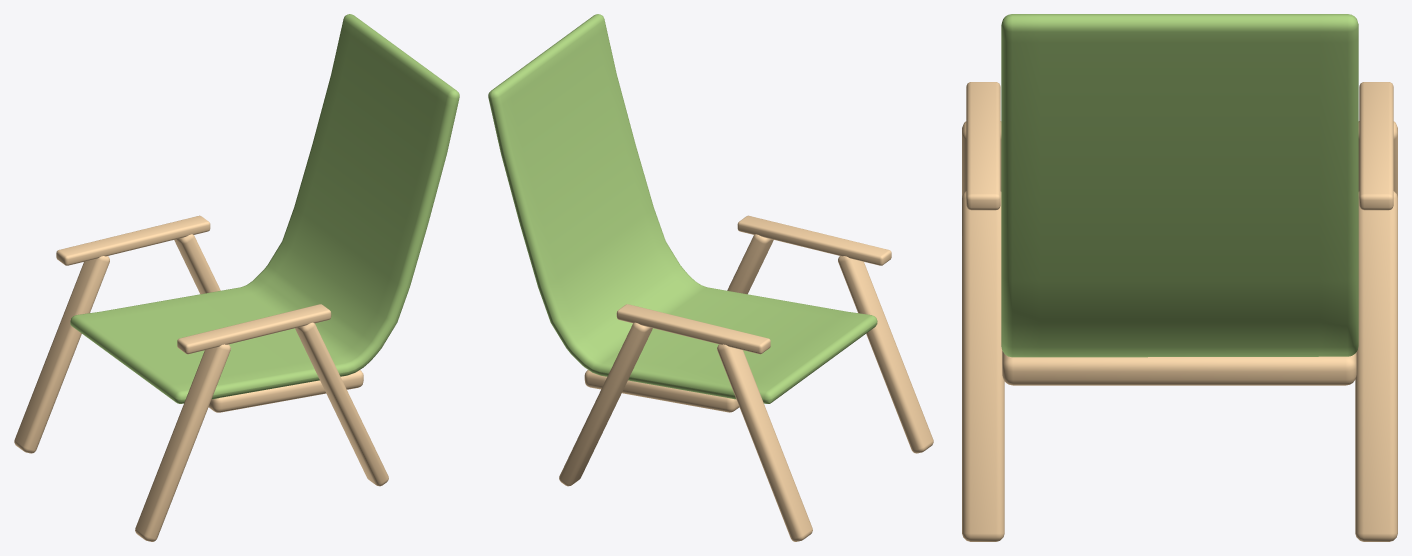
Rendered from Balcony Armchair03.fbx.
3 views of the same model, side by side, from view 1: azimuth 30°, elevation 25°; view 2: azimuth 150°, elevation 25°; view 3: azimuth 270°, elevation 25° (orthographic). The views are drawn at different scales.
Parts seen in each view (by area): view 1: Balcony Armchair03; view 2: Balcony Armchair03; view 3: Balcony Armchair03.
Boxes of the visible parts, x1=… form: Balcony Armchair03: x1=14, y1=14, x2=459, y2=541; Balcony Armchair03: x1=488, y1=14, x2=933, y2=541; Balcony Armchair03: x1=962, y1=14, x2=1397, y2=541.
Size of the model in its own units: 0.5247 by 0.3711 by 0.5586.
